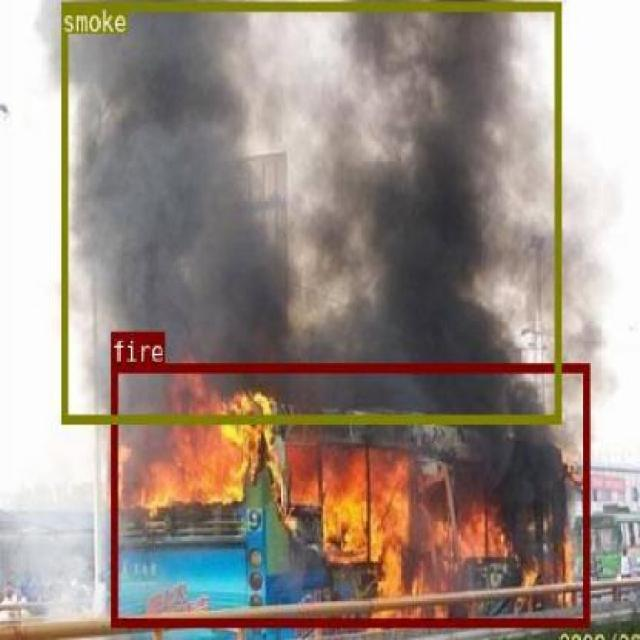Fire: (110, 362, 588, 624)
Smoke: (60, 0, 560, 422)
